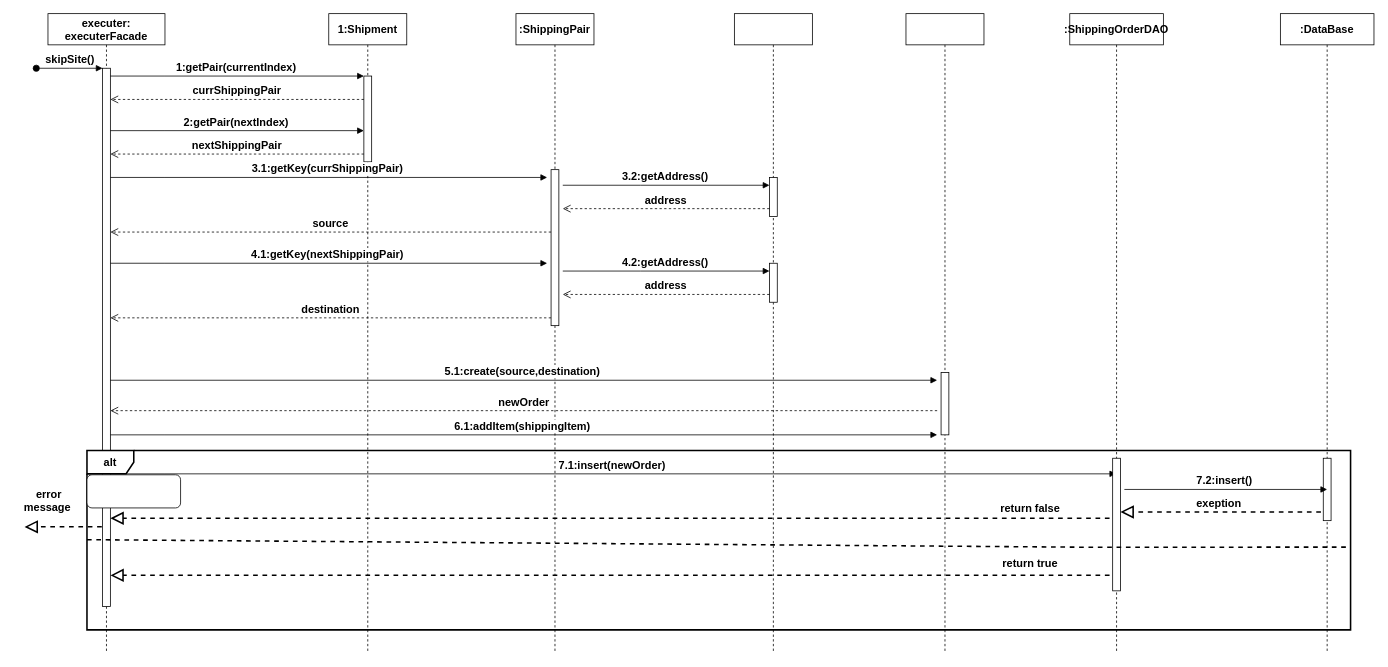
Some shapes in this 1388 by 667 pixel diagram are drawn without their labels. The shapes that lost their labels are listed below. From the top down, each one's centre as x and y in pixels, then its label:
At point (773, 333): ":Site".
At point (944, 333): ":ShippingOrder".
At point (133, 491): "if already in the system".
